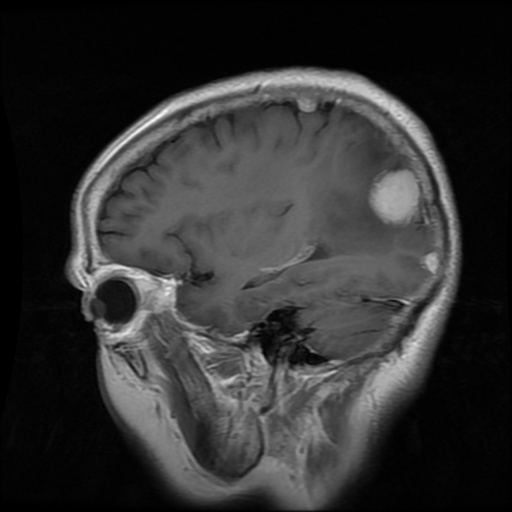meningioma: (373, 170, 419, 223)
